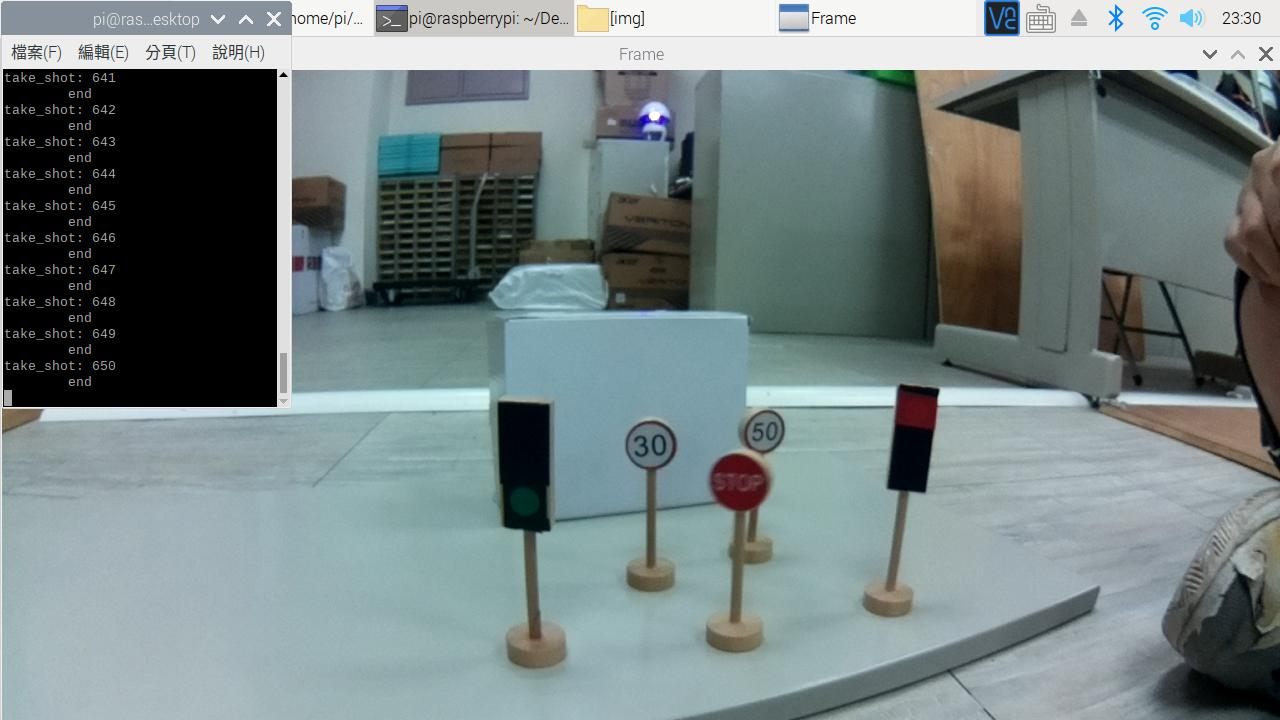Green: (474, 392, 576, 538)
Red: (878, 372, 972, 516)
Speed30: (622, 409, 677, 472)
Speed50: (738, 405, 794, 451)
Stop: (699, 447, 777, 520)
